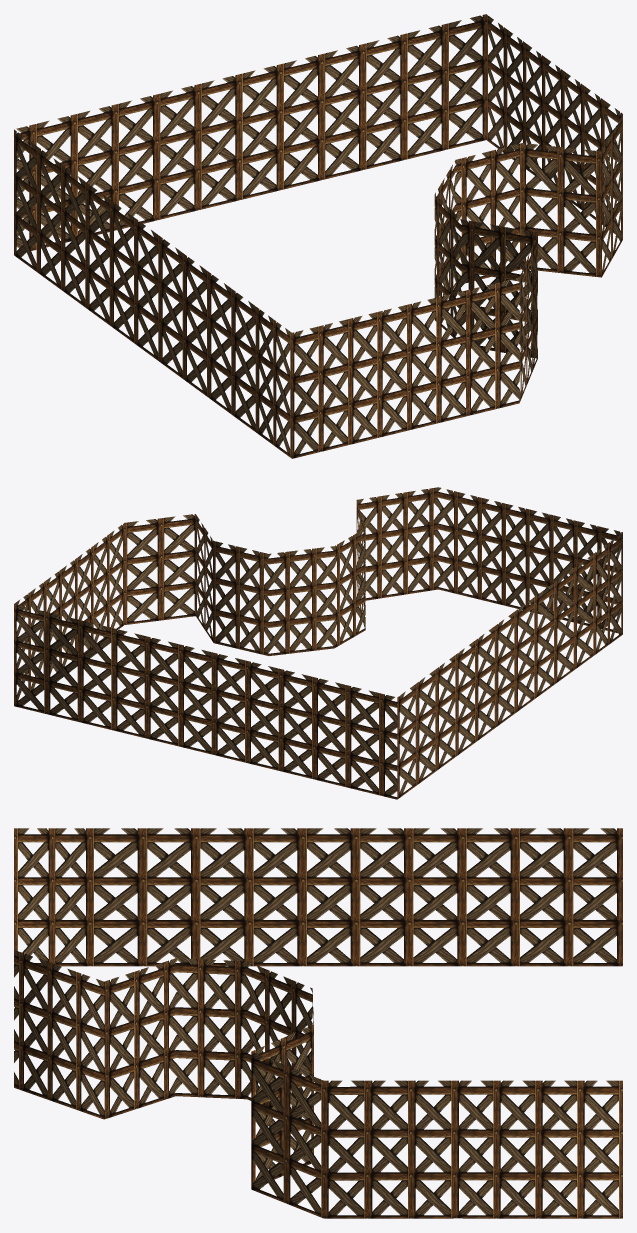
Rendered from LAKETOWN_EXTERIOR_PS_LT_INSIDE_WALL_01.obj.
3 renders of one model, top to bottom at view 1: azimuth 30°, elevation 25°; view 2: azimuth 150°, elevation 25°; view 3: azimuth 270°, elevation 25°, orthographic. The views are drawn at different scales.
Visible parts, largest first — view 1: _Inside_Wall_01; view 2: _Inside_Wall_01; view 3: _Inside_Wall_01.
Boxes of the visible parts, <box> form: _Inside_Wall_01: <box>14,14,622,458</box>; _Inside_Wall_01: <box>14,487,622,799</box>; _Inside_Wall_01: <box>14,828,622,1218</box>.
Size of the model in its own units: 2836 by 723 by 2890.
